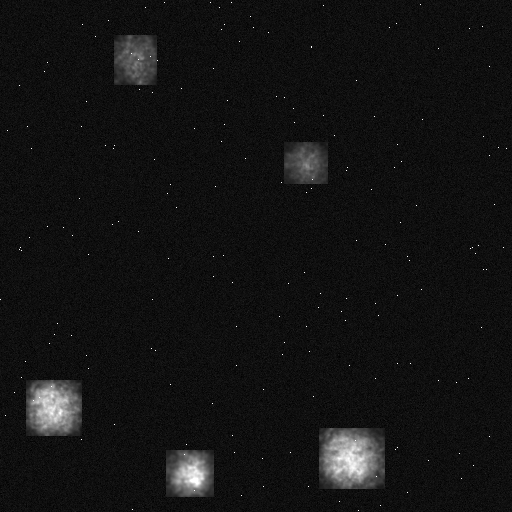lam1: (166, 450, 213, 496)
lam3: (319, 428, 384, 488), (26, 380, 81, 435), (114, 35, 156, 84), (284, 142, 327, 183)
